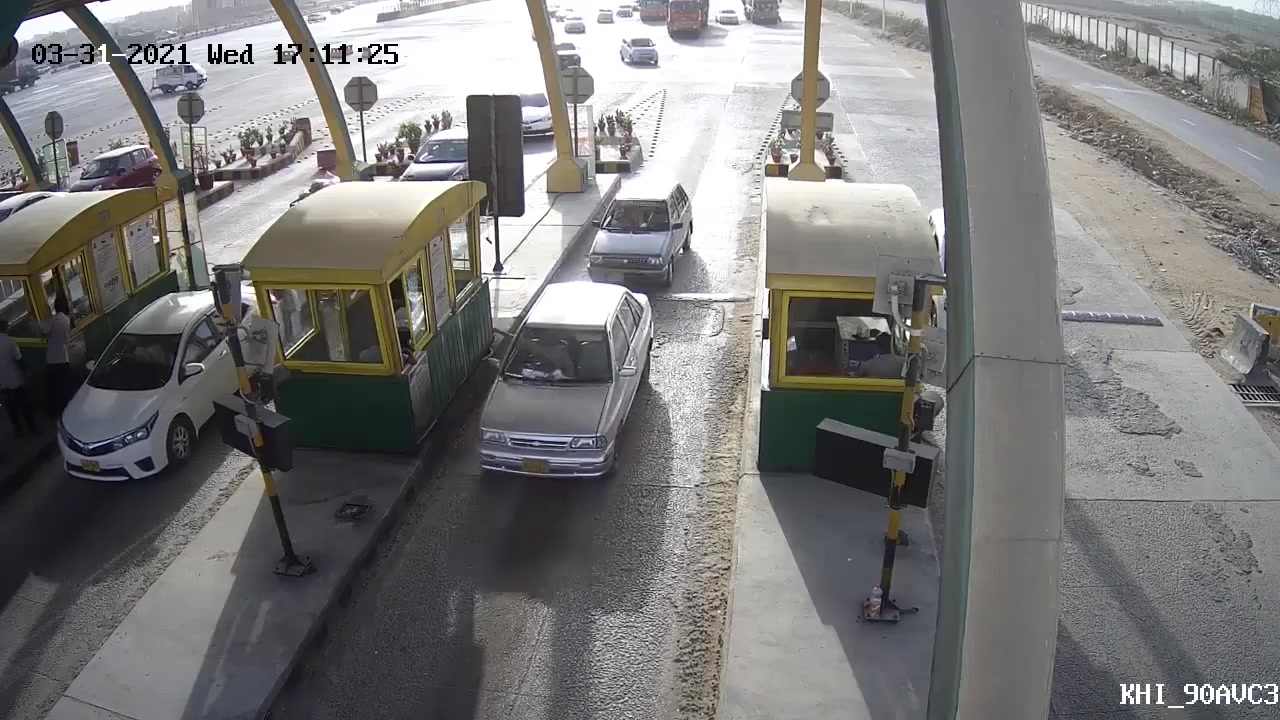F1: (474, 278, 655, 496), (582, 172, 697, 290)
